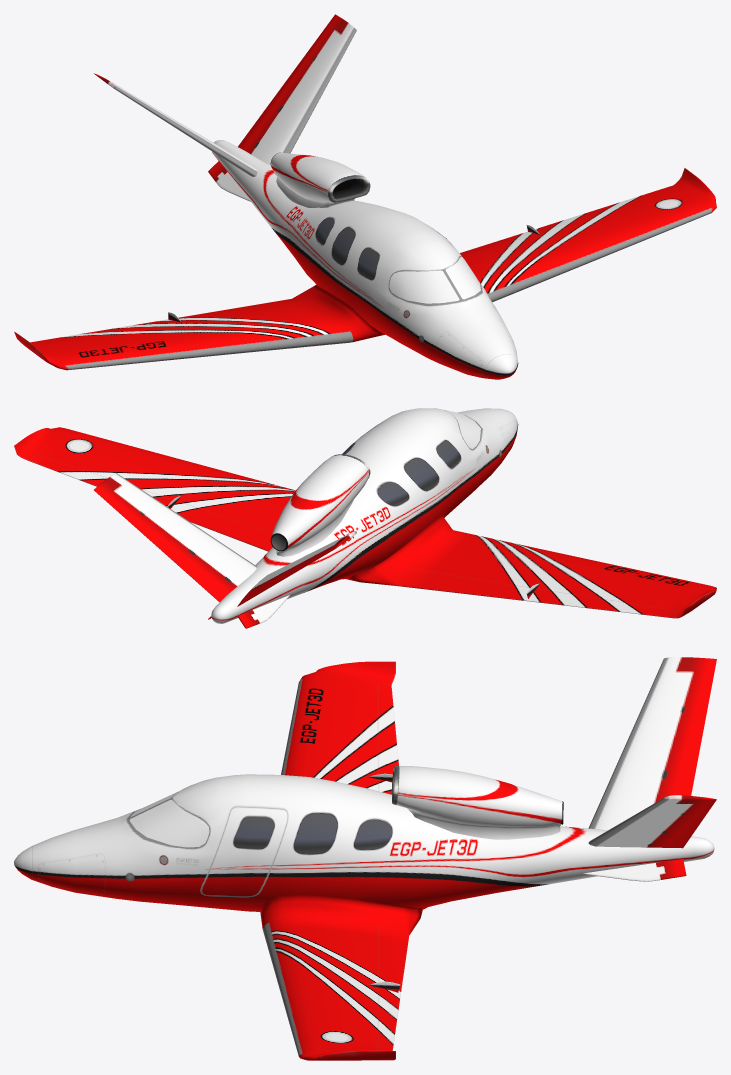
3 views of the same model, one above another, from view 1: azimuth 30°, elevation 25°; view 2: azimuth 150°, elevation 25°; view 3: azimuth 270°, elevation 25° (orthographic). The views are drawn at different scales.
Parts seen in each view (by area): view 1: VLJ, GLASS; view 2: VLJ, GLASS; view 3: VLJ, GLASS.
Boxes of the visible parts, x1,y1,x2,y2 form: VLJ: (14,14,716,379); GLASS: (389,257,480,303); VLJ: (14,408,716,628); GLASS: (446,410,480,448); VLJ: (14,657,716,1060); GLASS: (130,792,209,847).
Bounding box in the file's own units: 5.28 × 1.16 × 4.03.
Materials: 2 (1 with a texture image).
